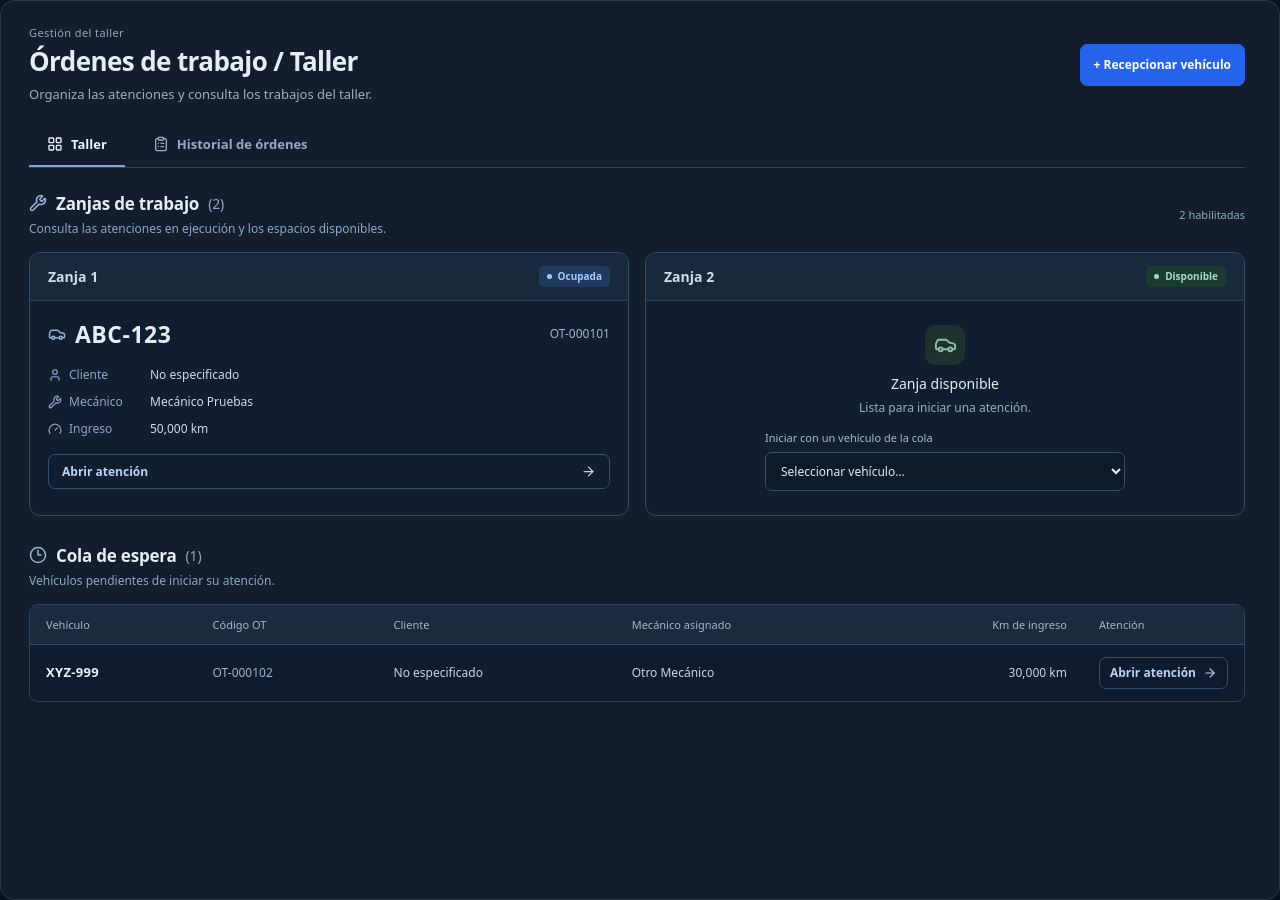
Test: OrdenesPage - Batería Frontend FASE 4 (Vitest React) › 3. Debe abrir el modal de detalle al interactuar con una orden
The width and height of the screenshot is (1280, 900).
Expected: the text "ABC-123" is shown, [75,318,171,350]
Step 1. Click the button "Abrir atención" below "50,000" → (105, 471), box [48,454,610,489]
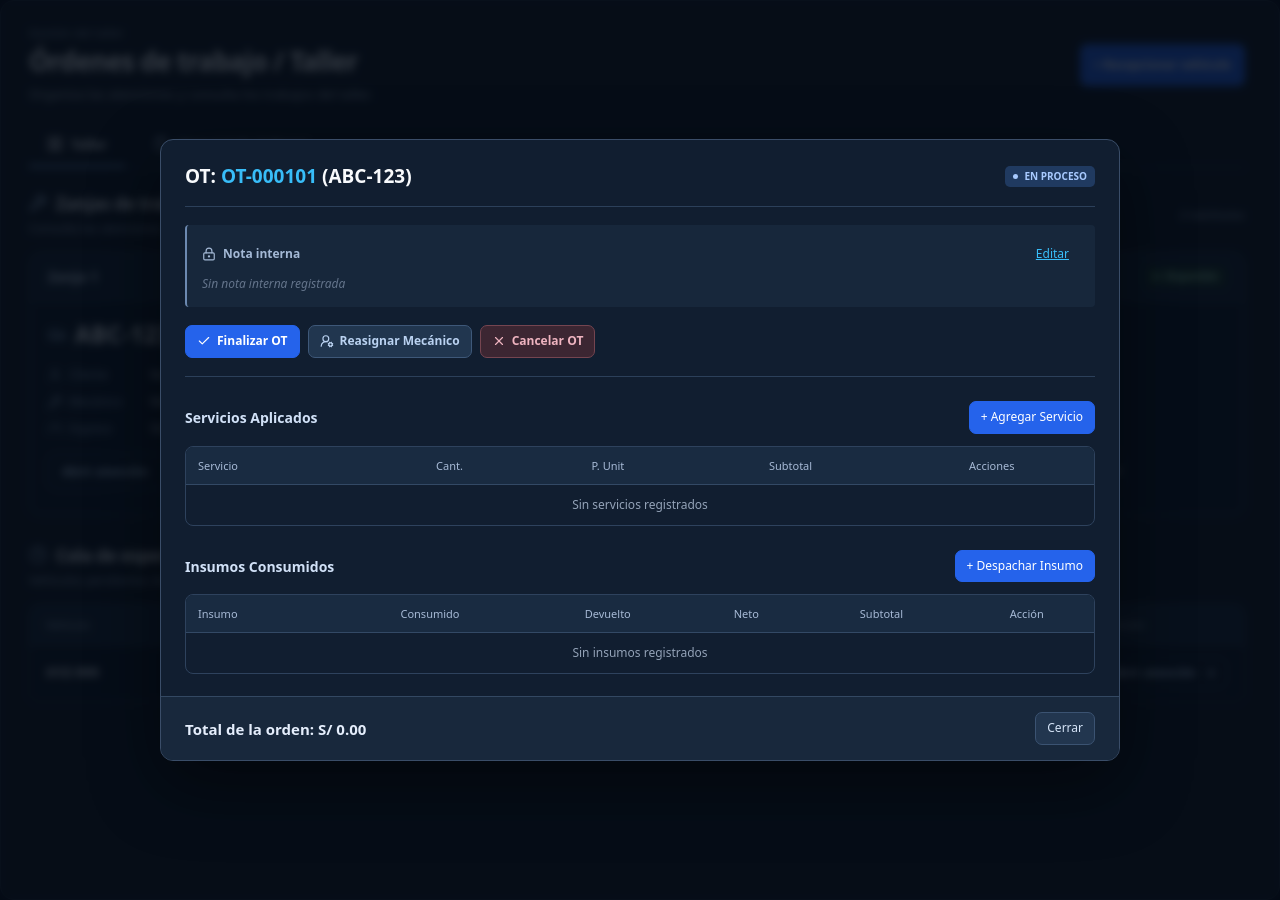
Result: the heading "OT: OT-000101 (ABC-123)" is shown at [185,162,412,190]
